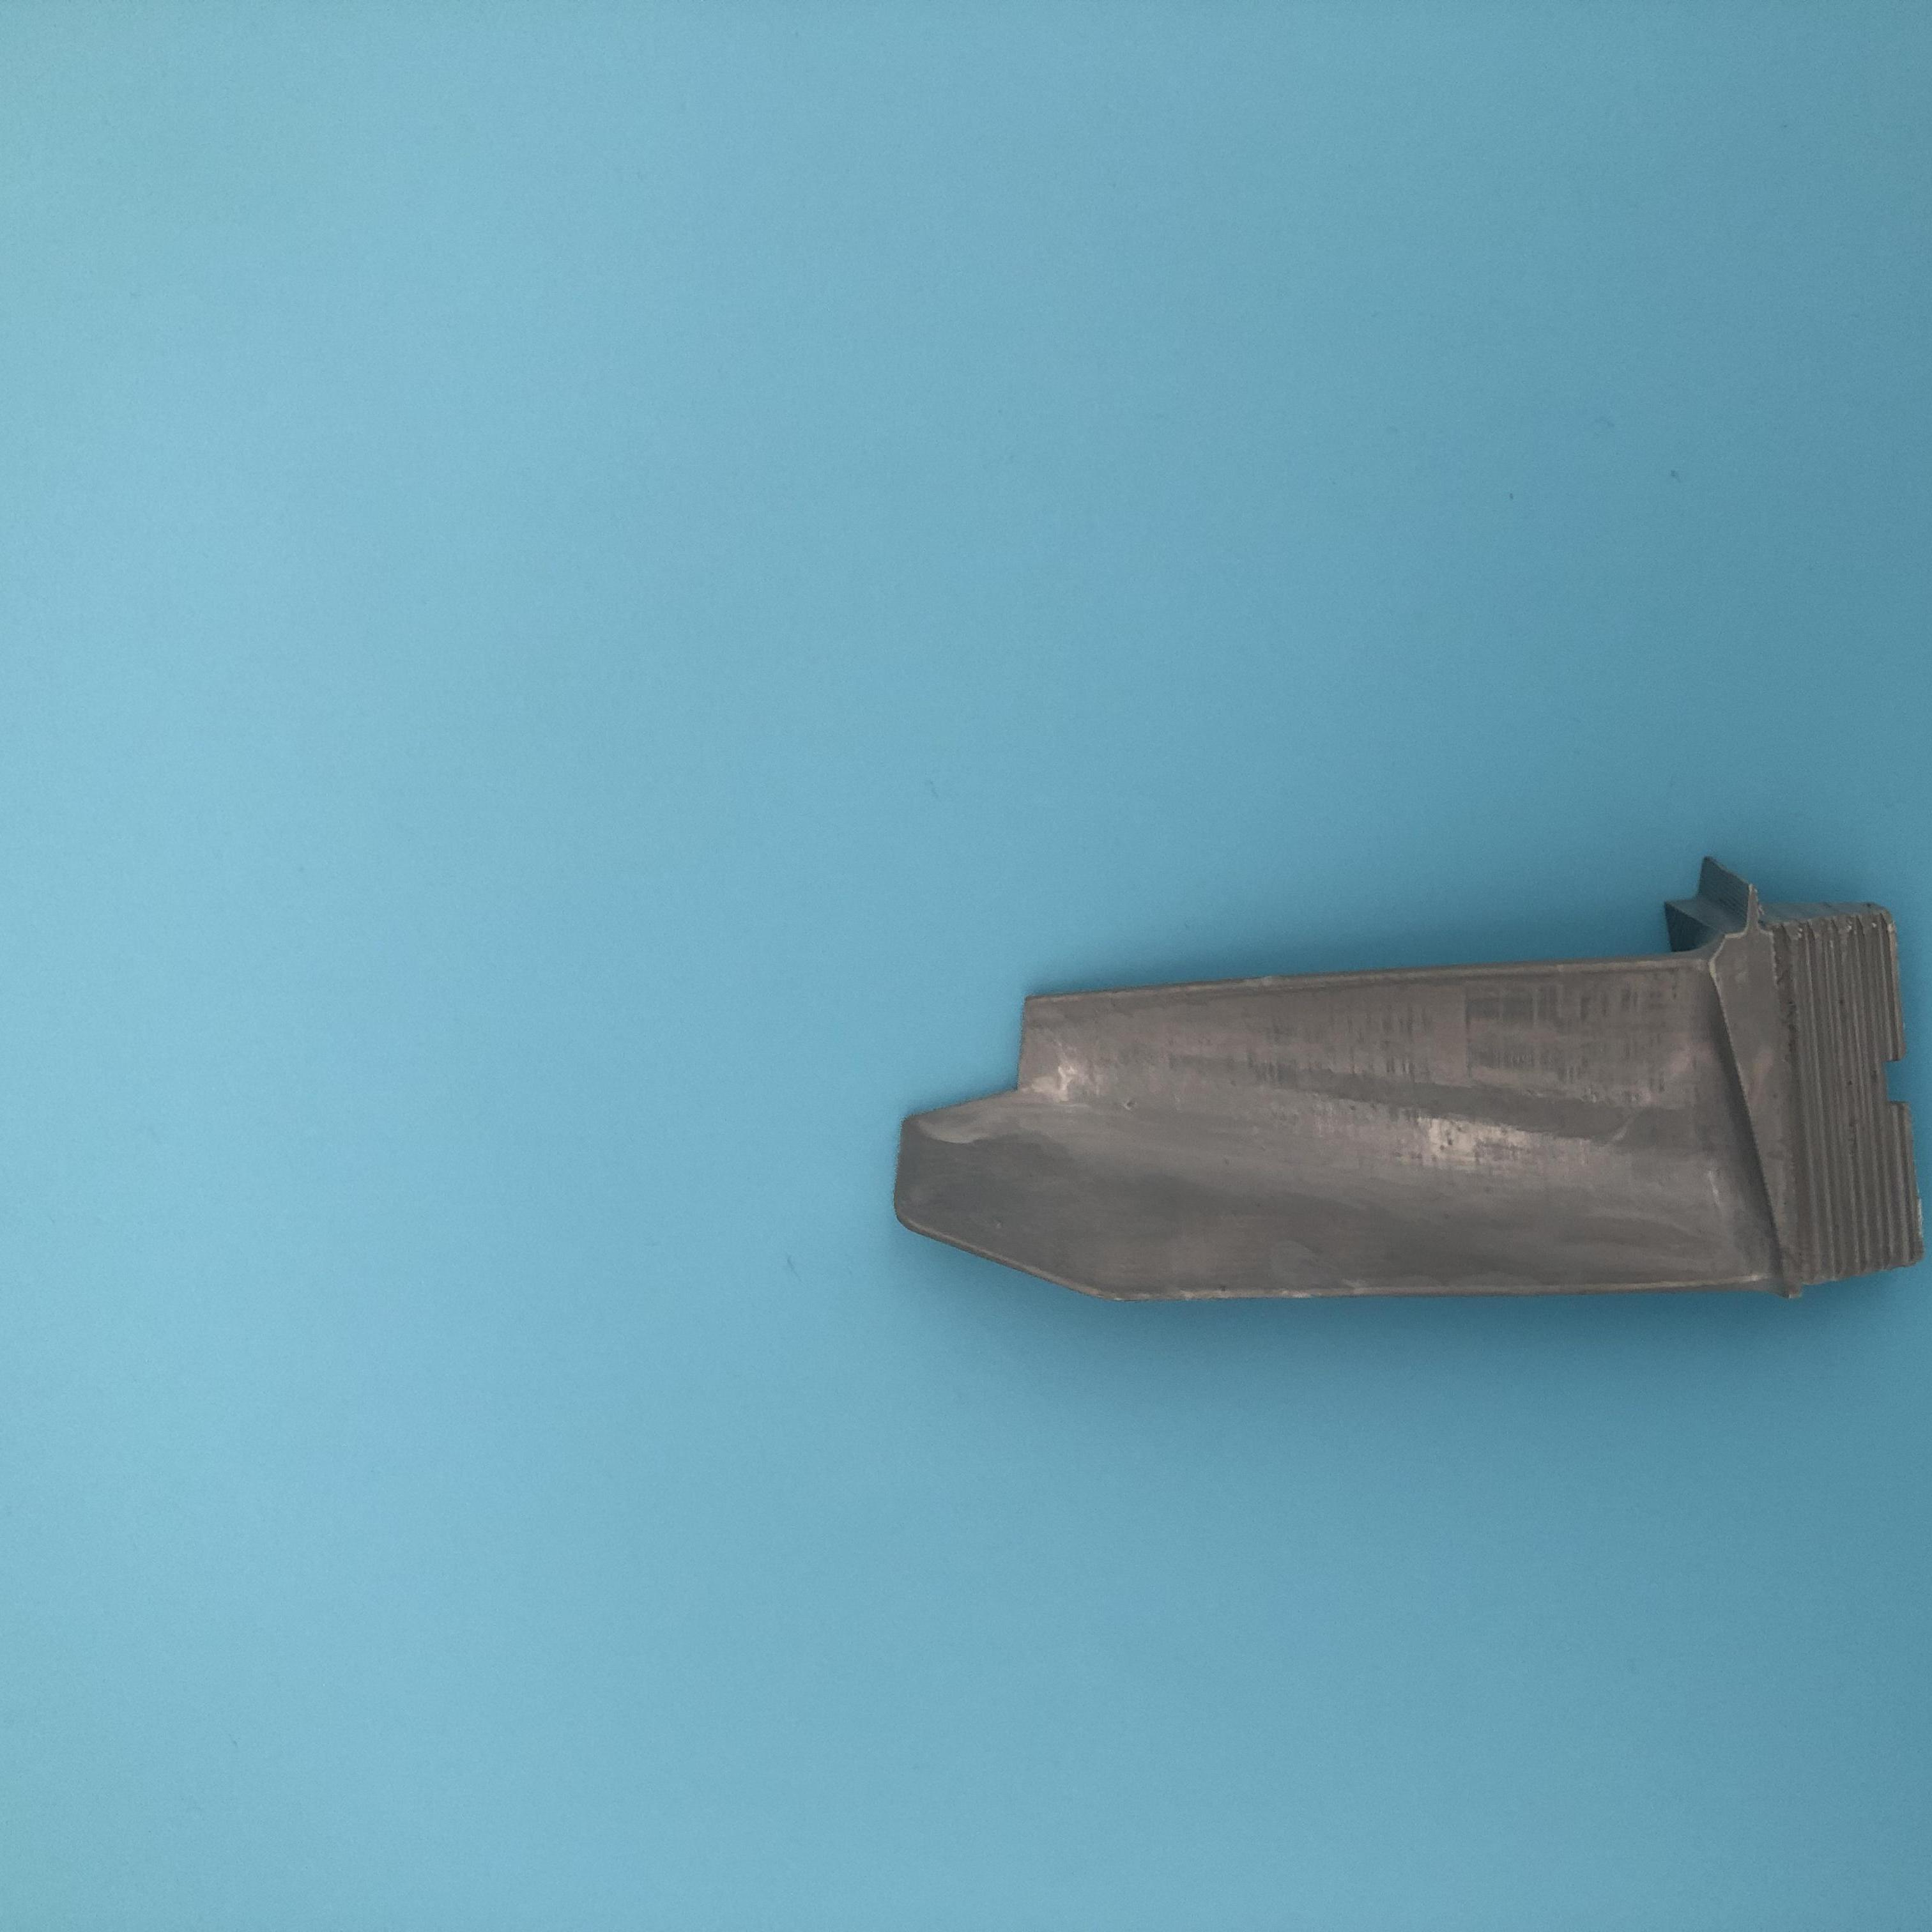fracture: (883, 977, 1083, 1150)
